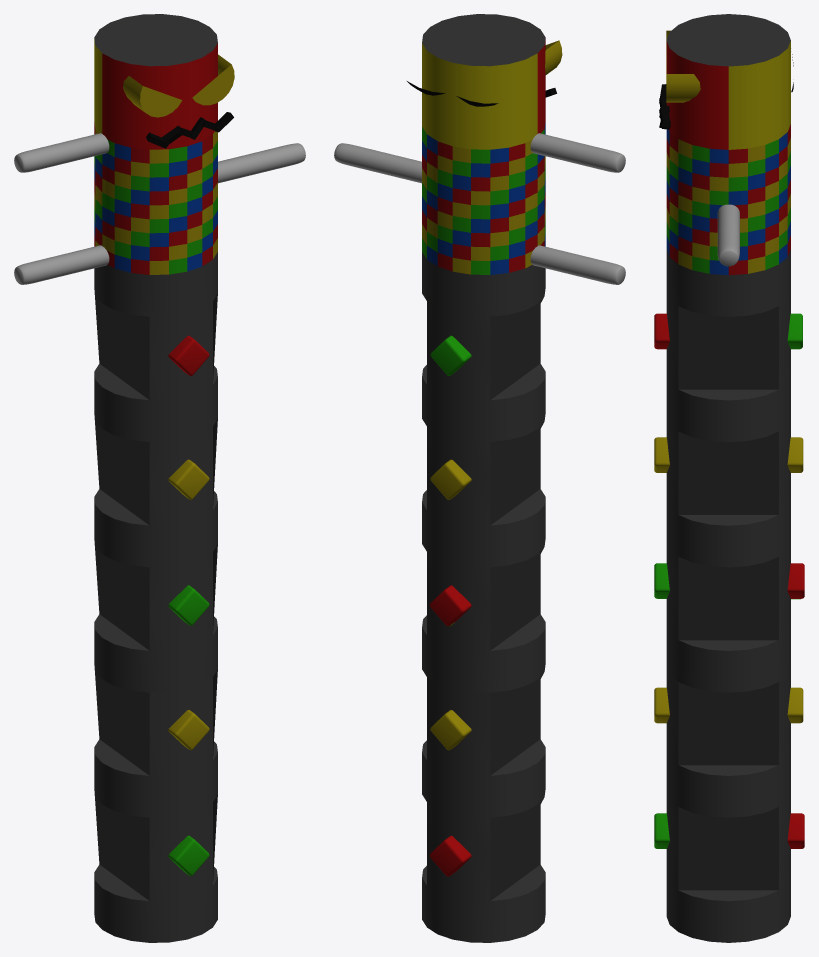
File: Totempole2.fbx
3 views of the same model, side by side, from view 1: azimuth 30°, elevation 25°; view 2: azimuth 150°, elevation 25°; view 3: azimuth 270°, elevation 25° (orthographic).
Visible parts, largest first — view 1: obj1, obj17, obj5, obj16, obj3, obj2, obj9, obj10, obj8; view 2: obj1, obj17, obj5, obj3, obj2, obj13, obj12, obj11; view 3: obj1, obj17, obj5, obj2, obj16, obj13, obj12, obj8, obj9, obj10, obj11.
Boxes of the visible parts, x1,y1,x2,y2 form: obj1: (94, 14, 217, 692); obj17: (94, 665, 217, 942); obj5: (14, 133, 217, 650); obj16: (123, 54, 234, 117); obj3: (14, 245, 109, 284); obj2: (218, 143, 305, 183); obj9: (168, 459, 209, 499); obj10: (168, 585, 209, 625); obj8: (168, 335, 209, 375); obj1: (422, 14, 545, 692); obj17: (422, 622, 545, 942); obj5: (422, 133, 625, 650); obj3: (530, 245, 625, 284); obj2: (334, 143, 421, 183); obj13: (429, 585, 471, 626); obj12: (430, 459, 471, 499); obj11: (430, 335, 471, 375); obj1: (666, 14, 790, 692); obj17: (654, 599, 804, 942); obj5: (678, 306, 778, 650); obj2: (717, 204, 739, 266); obj16: (666, 30, 700, 102); obj13: (787, 563, 804, 598); obj12: (787, 437, 803, 472); obj8: (654, 313, 669, 349); obj9: (654, 437, 669, 472); obj10: (654, 563, 669, 598); obj11: (787, 313, 802, 349).
Size of the model in its own units: 525 by 1557 by 242.
